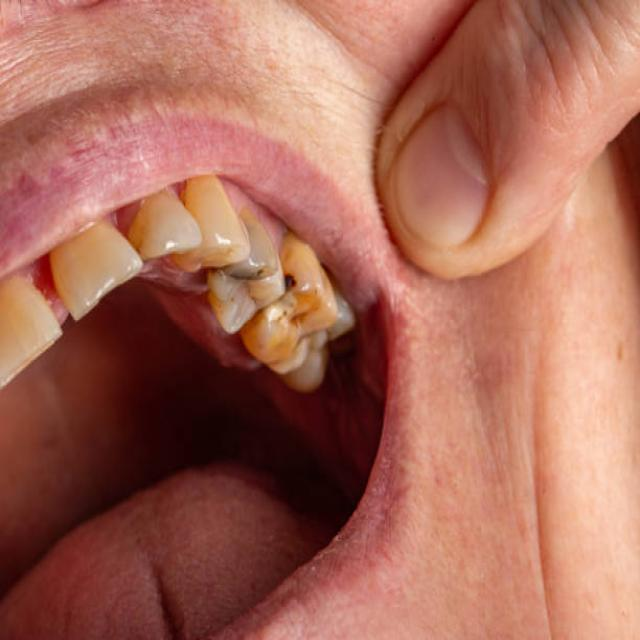caries: (228, 238, 319, 356)
